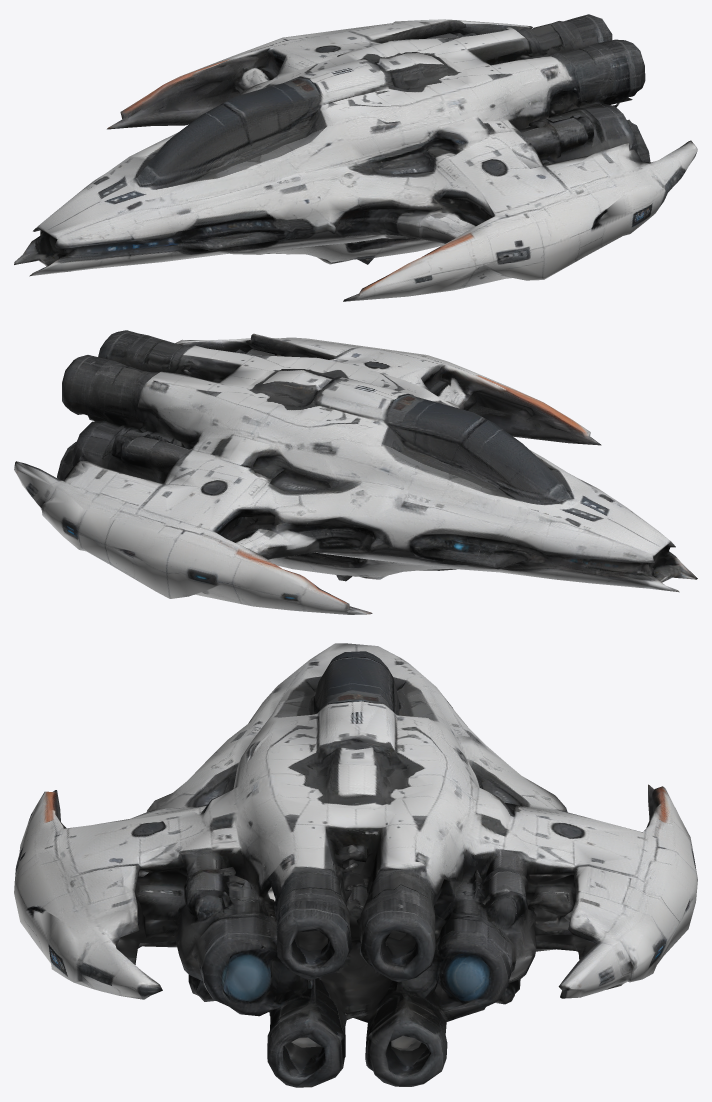
File: HShip01.glb
The picture shows the model from 3 angles, top to bottom: view 1: azimuth 30°, elevation 25°; view 2: azimuth 150°, elevation 25°; view 3: azimuth 270°, elevation 25°; orthographic projection. The views are drawn at different scales.
Size of the model in its own units: 2 by 0.5782 by 1.55.
Materials: 1 (1 with a texture image).
